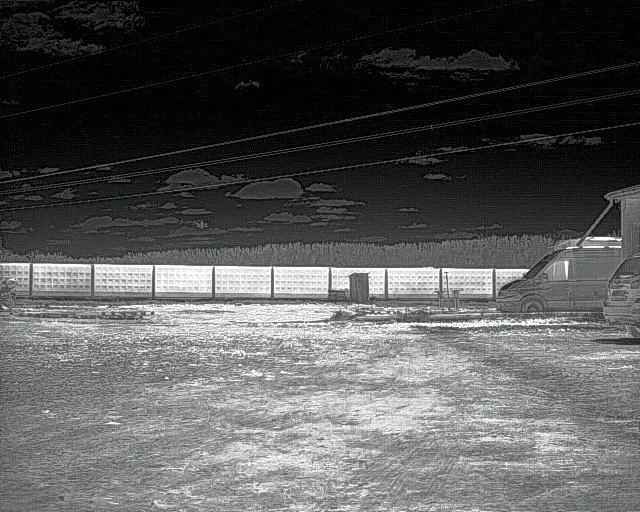drone-thermal: (195, 219, 210, 231)
